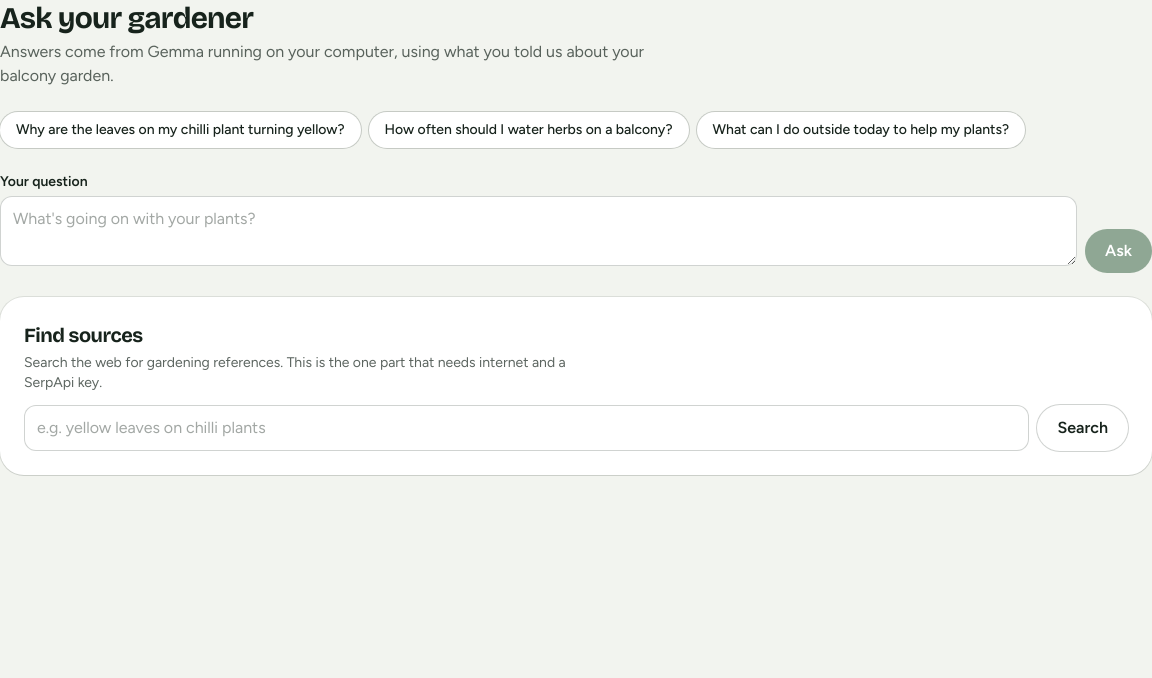
Scenario: AIChat › shows the answer, causes and a verification note
Type "Why yellow leaves?" into the text box labelled "Your question".
click(539, 231); type("Why yellow leaves?")  # box [0,196,1077,266]
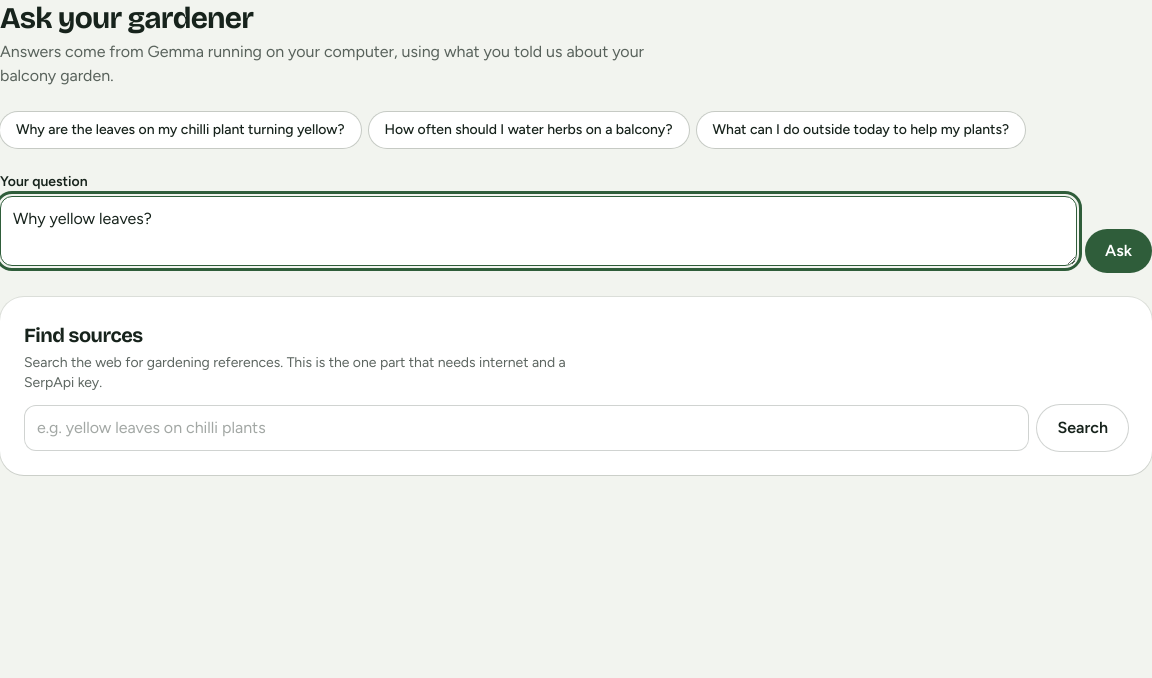
Click the button "Ask".
click(1119, 251)  # box [1085,229,1151,273]
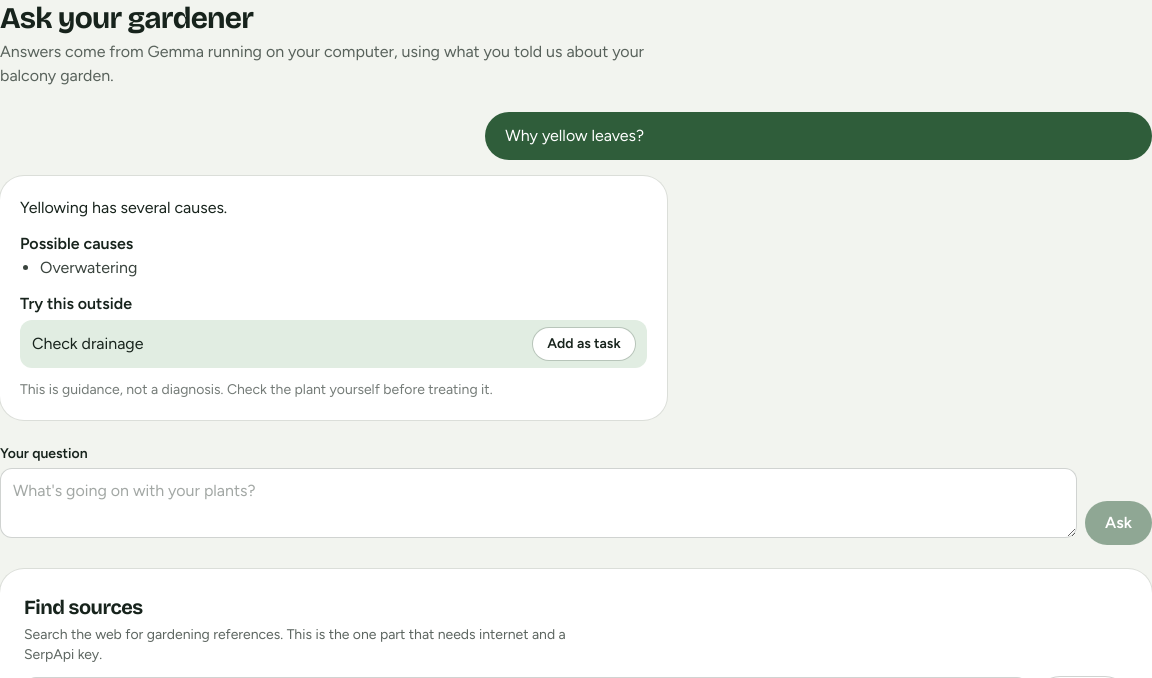
Result: the text "Yellowing has several causes." is shown at [20,198,227,217]
Result: the list item "Overwatering" is shown at [40,258,137,277]
Result: the text "not a diagnosis" is shown at [20,381,492,398]
